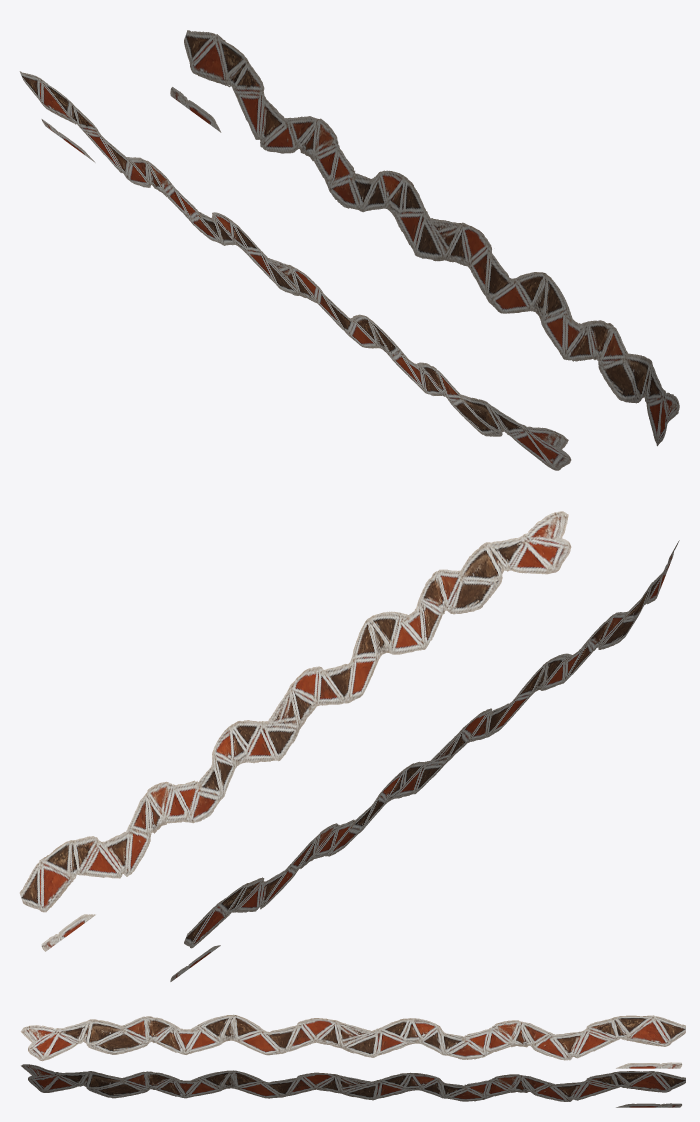
File: canoe_fisher_prop.dae
The picture shows the model from 3 angles, top to bottom: view 1: azimuth 30°, elevation 25°; view 2: azimuth 150°, elevation 25°; view 3: azimuth 270°, elevation 25°; orthographic projection. The views are drawn at different scales.
Visible parts, largest first — view 1: canoe_fisher.001; view 2: canoe_fisher.001; view 3: canoe_fisher.001.
Part boxes in pixels (<box>): canoe_fisher.001: <box>19,30,679,470</box>; canoe_fisher.001: <box>19,511,679,981</box>; canoe_fisher.001: <box>20,1014,685,1107</box>.
Size of the model in its own units: 2 by 10.18 by 0.7686.
